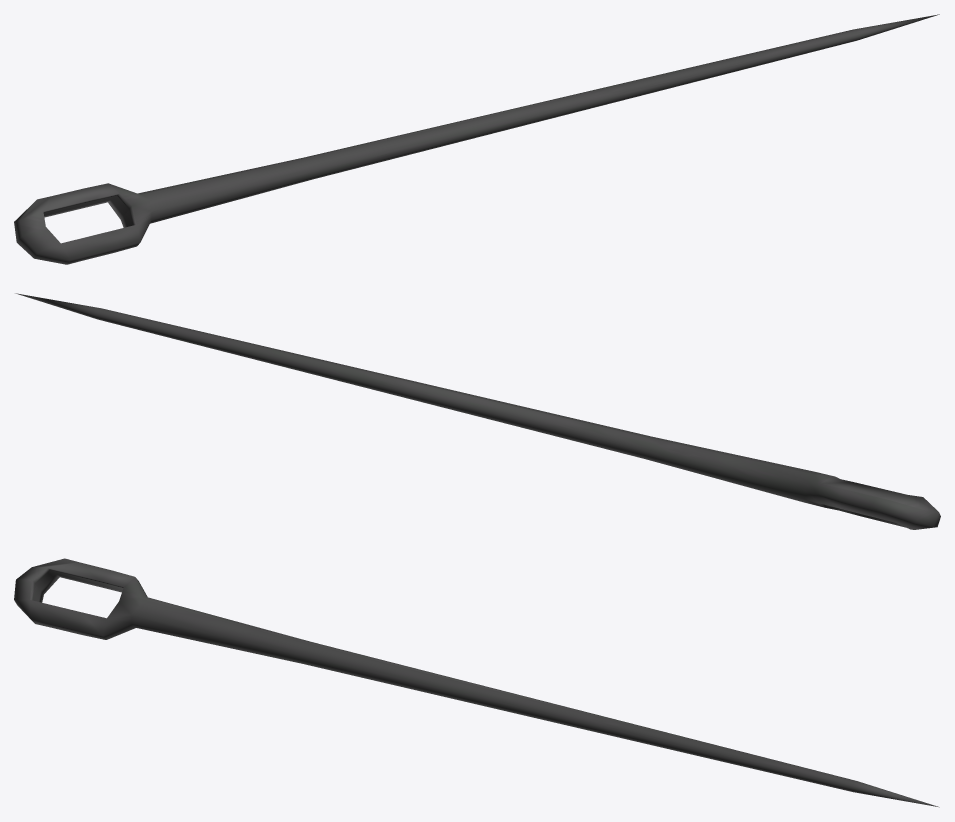
Rendered from 00_03_needle.DAE.
3 renders of one model, top to bottom at view 1: azimuth 30°, elevation 25°; view 2: azimuth 150°, elevation 25°; view 3: azimuth 330°, elevation 25°, orthographic.
Visible parts, largest first — view 1: Cylinder001; view 2: Cylinder001; view 3: Cylinder001.
Part boxes in pixels (bbox=[...]): Cylinder001: bbox=[14, 14, 939, 264]; Cylinder001: bbox=[15, 293, 940, 529]; Cylinder001: bbox=[14, 558, 939, 807].
Bounding box in the file's own units: 0.085 × 0.00385 × 0.00598.
